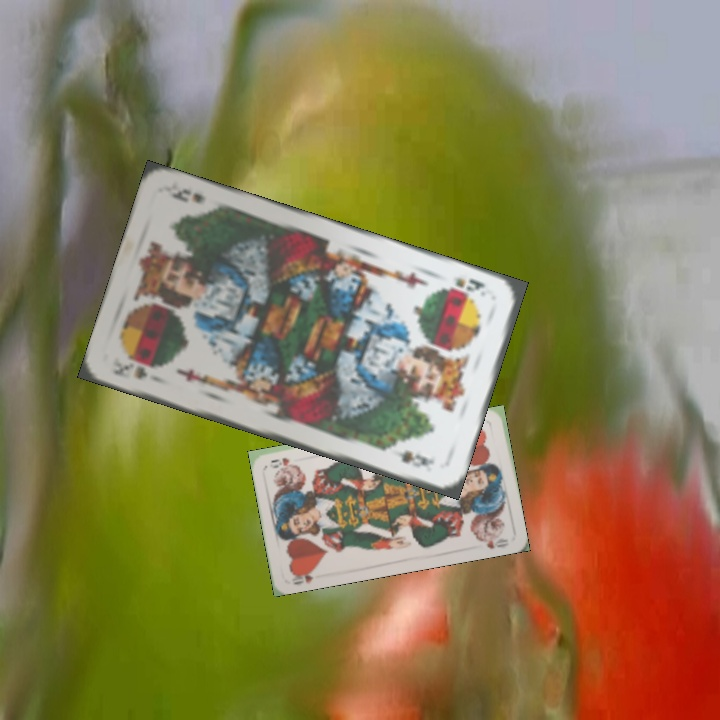HO: (288, 564, 320, 587)
SK: (108, 353, 150, 382), (451, 274, 487, 295)
